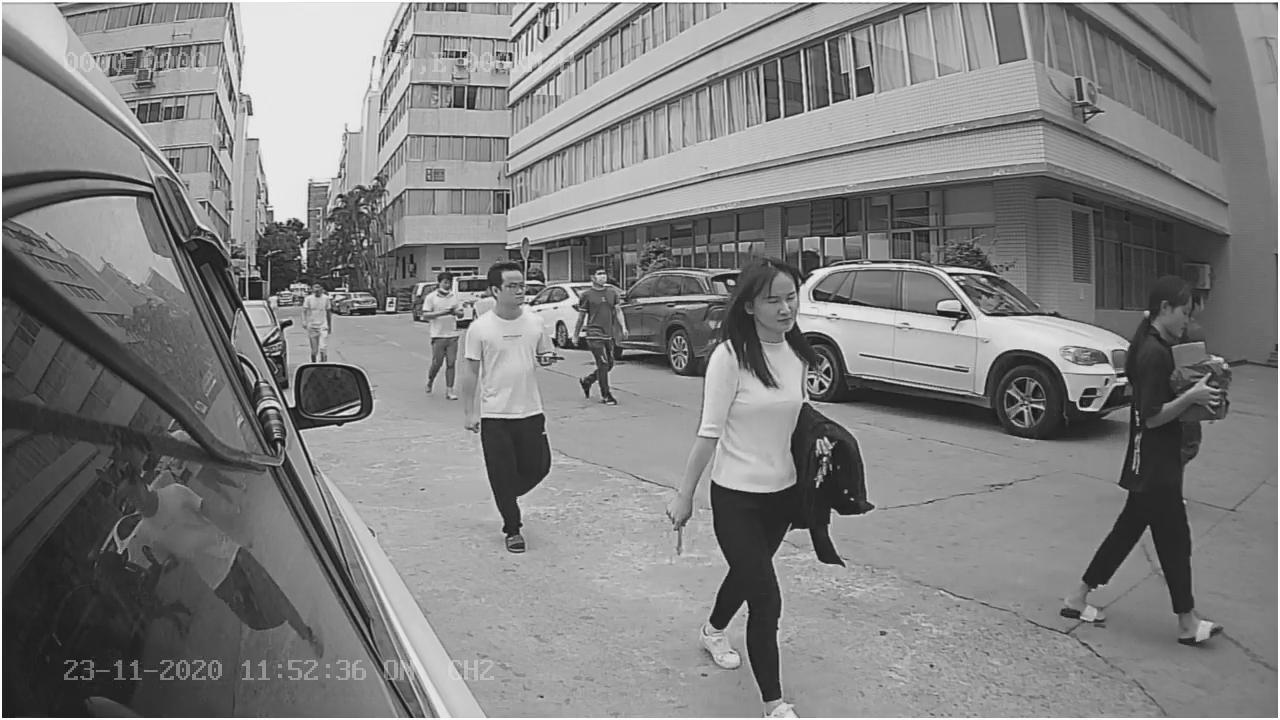person: (675, 260, 826, 716), (461, 261, 558, 546)
